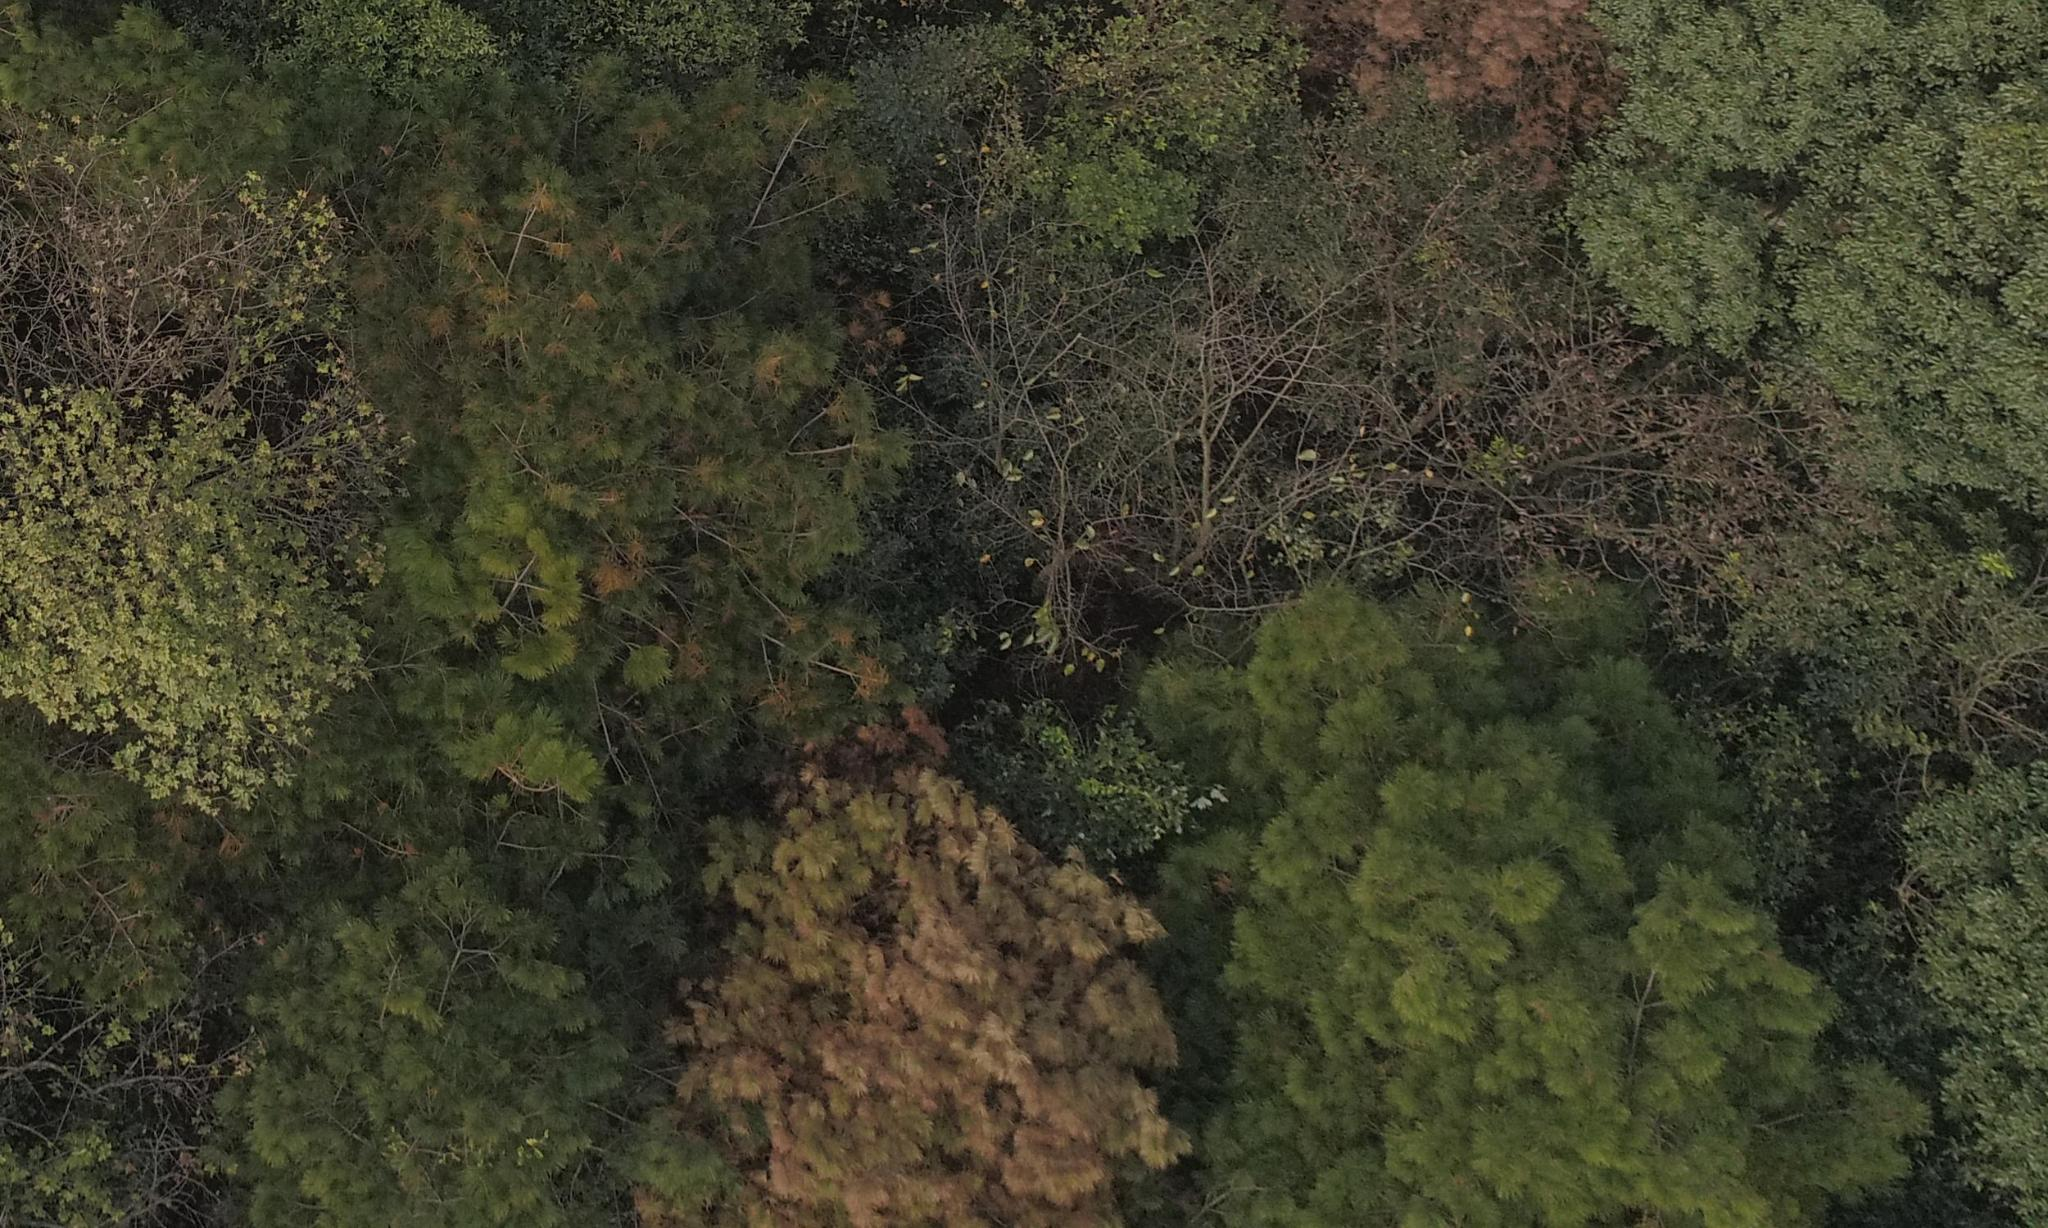dead: (1202, 250, 1754, 589), (934, 213, 1149, 645), (25, 177, 257, 406)
heavy: (689, 760, 1161, 1212), (1340, 10, 1618, 133)
light: (386, 99, 860, 694)
